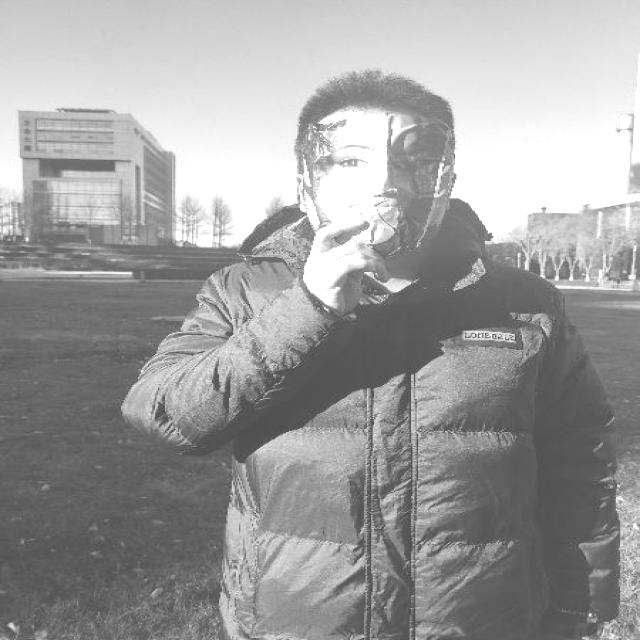fake: (324, 118, 424, 236)
